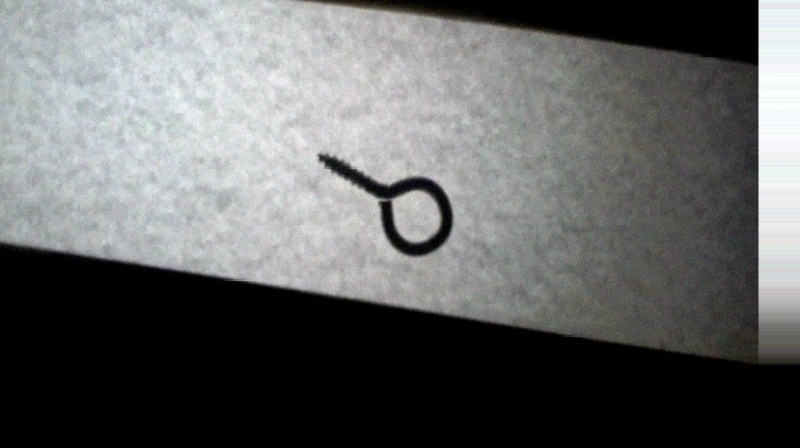O001: (313, 149, 459, 263)
